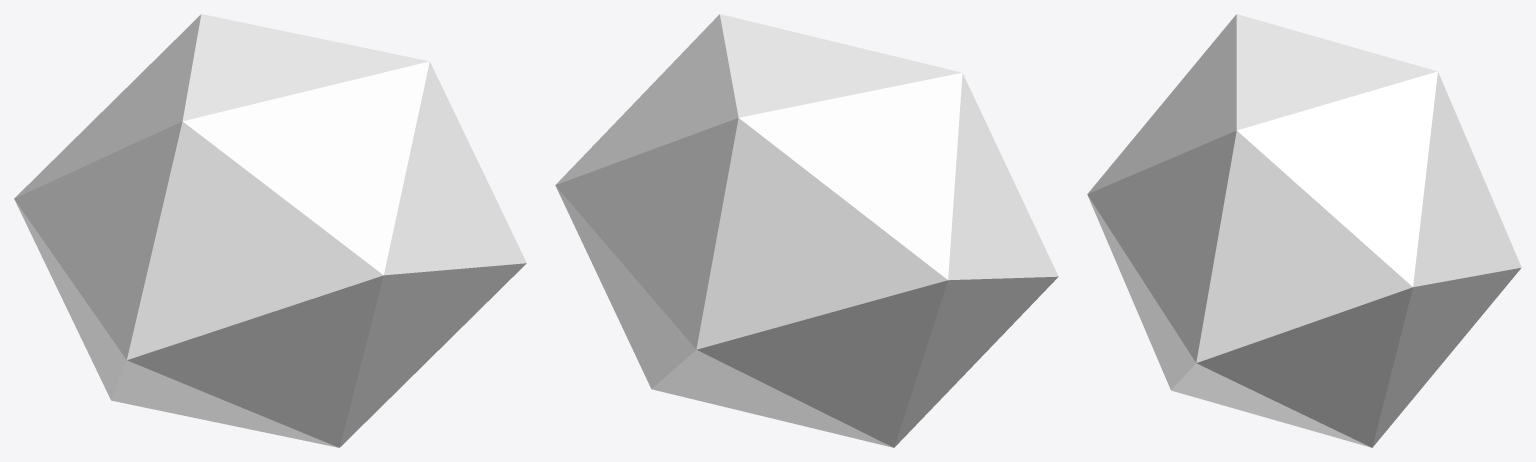
The model's file is Snowball_Alt3.fbx.
3 renders of one model, left to right at view 1: azimuth 30°, elevation 25°; view 2: azimuth 150°, elevation 25°; view 3: azimuth 270°, elevation 25°, orthographic. The views are drawn at different scales.
Visible parts, largest first — view 1: Snowball_Alt3; view 2: Snowball_Alt3; view 3: Snowball_Alt3.
Boxes of the visible parts, x1=… form: Snowball_Alt3: x1=14, y1=14, x2=526, y2=447; Snowball_Alt3: x1=555, y1=14, x2=1058, y2=447; Snowball_Alt3: x1=1087, y1=14, x2=1521, y2=447.
Bounding box in the file's own units: 0.1286 × 0.102 × 0.1258.
